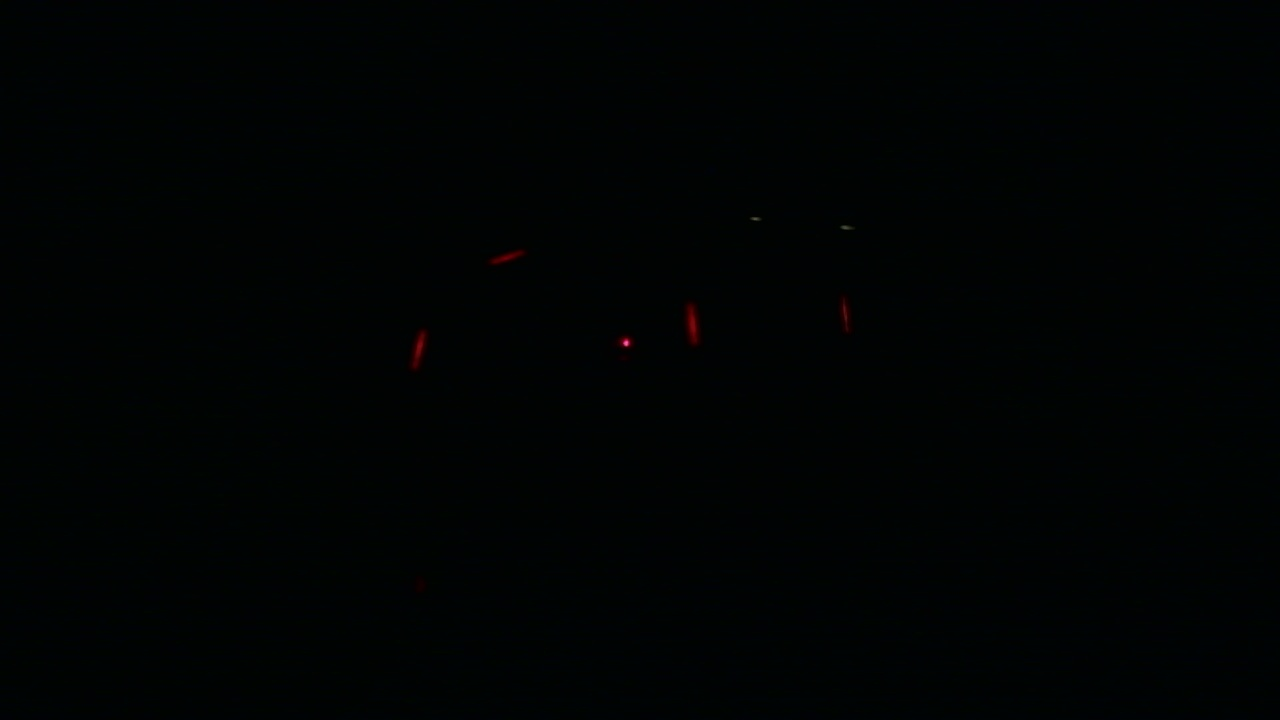lamp: (401, 327, 428, 375), (679, 292, 699, 334)
notpair2: (405, 295, 701, 378)
